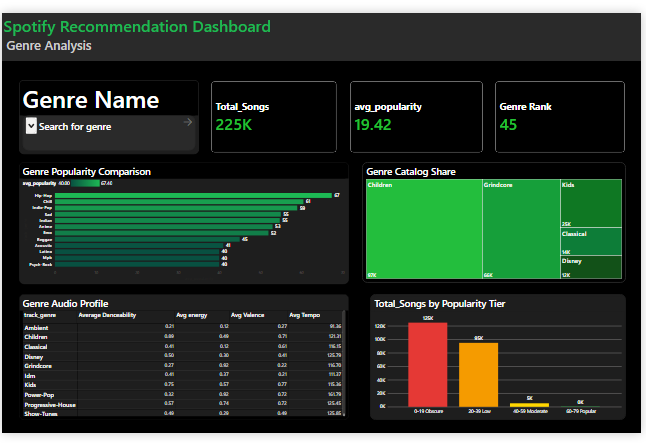

This screenshot's page, from the dashboard's own definition file:
{"tool":"powerbi","page":{"name":"Page 4","canvas":[2130,1400],"ordinal":3},"visuals":[{"type":"textSlicer","fields":{"Values":["dim_genre.track_genre"]},"box":[56.7,223.3,600,246.7],"z":0},{"type":"cardVisual","fields":{"Data":["fact_table.Total_Songs"]},"box":[693.3,223.3,426.7,246.7],"z":1000},{"type":"cardVisual","fields":{"Data":["fact_table.avg_popularity"]},"box":[1156.7,223.3,450,246.7],"z":2000},{"type":"cardVisual","fields":{"Data":["fact_table.Genre Rank"]},"box":[1640,223.3,440,246.7],"z":3000},{"type":"clusteredBarChart","title":"Genre Popularity Comparison","fields":{"Category":["dim_genre.track_genre"],"Y":["fact_table.avg_popularity"]},"box":[56.7,496.7,1100,406.7],"z":4000},{"type":"treemap","title":"Genre Catalog Share","fields":{"Group":["dim_genre.track_genre"],"Values":["fact_table.Total_Songs"]},"box":[1200,496.7,880,403.3],"z":5000},{"type":"pivotTable","title":"Genre Audio Profile","fields":{"Values":["fact_table.Average Danceability","fact_table.Avg energy","fact_table.Avg Valence","fact_table.Avg Tempo"],"Rows":["dim_genre.track_genre"]},"box":[56.7,936.7,1100,420],"z":6000},{"type":"clusteredColumnChart","fields":{"Category":["fact_table.Popularity Tier"],"Y":["fact_table.Total_Songs"]},"box":[1226.7,936.7,853.3,420],"z":7000},{"type":"textbox","box":[0,0,2130,160],"z":8000}]}

Visuals, with their boxes on the page's 2130x1400 design canvas (x1, y1, x2, y2). These are canvas units, not pixel positions in the 646x443 screenshot, which may show the page scaled, cropped or inside an application window:
textSlicer - dim_genre.track_genre: box(57, 223, 657, 470)
cardVisual - fact_table.Total_Songs: box(693, 223, 1120, 470)
cardVisual - fact_table.avg_popularity: box(1157, 223, 1607, 470)
cardVisual - fact_table.Genre Rank: box(1640, 223, 2080, 470)
"Genre Popularity Comparison" clusteredBarChart: box(57, 497, 1157, 903)
"Genre Catalog Share" treemap: box(1200, 497, 2080, 900)
"Genre Audio Profile" pivotTable: box(57, 937, 1157, 1357)
clusteredColumnChart - fact_table.Popularity Tier x fact_table.Total_Songs: box(1227, 937, 2080, 1357)
textbox: box(0, 0, 2130, 160)
